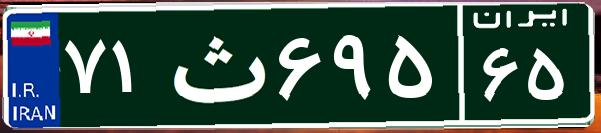1: (110, 28, 158, 105)
5: (385, 28, 445, 110), (525, 38, 570, 115)
6: (273, 28, 330, 110), (475, 38, 525, 113)
7: (57, 26, 110, 107)
9: (330, 28, 385, 110)
ث: (158, 15, 273, 115)
